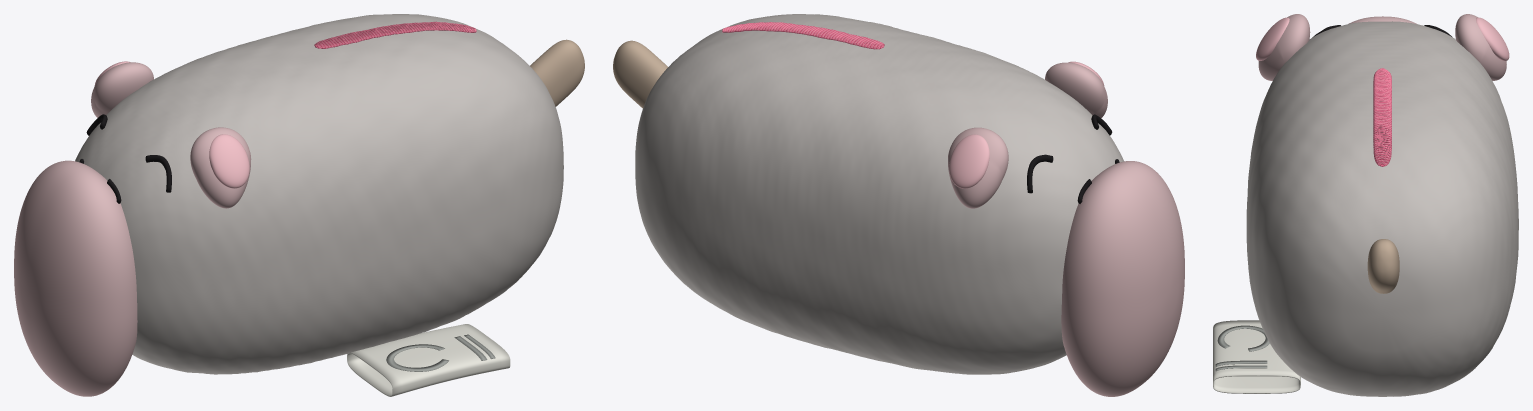
Rendered from wanjuzhu_smooth.glb.
3 views of the same model, side by side, from view 1: azimuth 30°, elevation 25°; view 2: azimuth 150°, elevation 25°; view 3: azimuth 270°, elevation 25° (orthographic). The views are drawn at different scales.
Parts seen in each view (by area): view 1: Pig_Body_Continuous_Pillow, Pig_Pale_Pink_Padded_Snout, Pig_Folded_Satin_Care_Label, Pig_Short_Tan_Fabric_Tail, Pig_Ear_Near_Cream_Rim, Pig_Ear_Far_Cream_Rim, Pig_Ear_Near_Pink_Inner, Pig_Back_Strip_Individual_Satin_Stitches, Pig_Label_Grey_Curved_Mark; view 2: Pig_Body_Continuous_Pillow, Pig_Pale_Pink_Padded_Snout, Pig_Short_Tan_Fabric_Tail, Pig_Ear_Far_Cream_Rim, Pig_Ear_Near_Cream_Rim, Pig_Ear_Far_Pink_Inner, Pig_Back_Strip_Individual_Satin_Stitches; view 3: Pig_Body_Continuous_Pillow, Pig_Folded_Satin_Care_Label, Pig_Back_Strip_Individual_Satin_Stitches, Pig_Ear_Far_Cream_Rim, Pig_Ear_Near_Cream_Rim, Pig_Short_Tan_Fabric_Tail, Pig_Ear_Far_Pink_Inner, Pig_Ear_Near_Pink_Inner, Pig_Label_Grey_Curved_Mark, Pig_Pale_Pink_Padded_Snout.
Part boxes in pixels (bbox=[...]): Pig_Body_Continuous_Pillow: bbox=[75, 14, 563, 374]; Pig_Pale_Pink_Padded_Snout: bbox=[14, 160, 137, 396]; Pig_Folded_Satin_Care_Label: bbox=[347, 324, 510, 396]; Pig_Short_Tan_Fabric_Tail: bbox=[530, 39, 584, 106]; Pig_Ear_Near_Cream_Rim: bbox=[190, 127, 251, 208]; Pig_Ear_Far_Cream_Rim: bbox=[91, 62, 153, 117]; Pig_Ear_Near_Pink_Inner: bbox=[209, 134, 249, 188]; Pig_Back_Strip_Individual_Satin_Stitches: bbox=[314, 21, 476, 48]; Pig_Label_Grey_Curved_Mark: bbox=[386, 344, 448, 371]; Pig_Body_Continuous_Pillow: bbox=[635, 14, 1123, 374]; Pig_Pale_Pink_Padded_Snout: bbox=[1061, 161, 1184, 396]; Pig_Short_Tan_Fabric_Tail: bbox=[613, 40, 667, 108]; Pig_Ear_Far_Cream_Rim: bbox=[948, 127, 1008, 208]; Pig_Ear_Near_Cream_Rim: bbox=[1045, 62, 1107, 118]; Pig_Ear_Far_Pink_Inner: bbox=[949, 134, 989, 188]; Pig_Back_Strip_Individual_Satin_Stitches: bbox=[722, 22, 884, 48]; Pig_Body_Continuous_Pillow: bbox=[1246, 21, 1518, 396]; Pig_Folded_Satin_Care_Label: bbox=[1213, 320, 1300, 393]; Pig_Back_Strip_Individual_Satin_Stitches: bbox=[1373, 68, 1391, 166]; Pig_Ear_Far_Cream_Rim: bbox=[1455, 14, 1506, 80]; Pig_Ear_Near_Cream_Rim: bbox=[1258, 14, 1310, 80]; Pig_Short_Tan_Fabric_Tail: bbox=[1367, 239, 1399, 293]; Pig_Ear_Far_Pink_Inner: bbox=[1476, 17, 1509, 60]; Pig_Ear_Near_Pink_Inner: bbox=[1256, 17, 1289, 60]; Pig_Label_Grey_Curved_Mark: bbox=[1217, 325, 1269, 351]; Pig_Pale_Pink_Padded_Snout: bbox=[1348, 16, 1417, 24].
Size of the model in its own units: 0.0994 by 0.05 by 0.0497.
